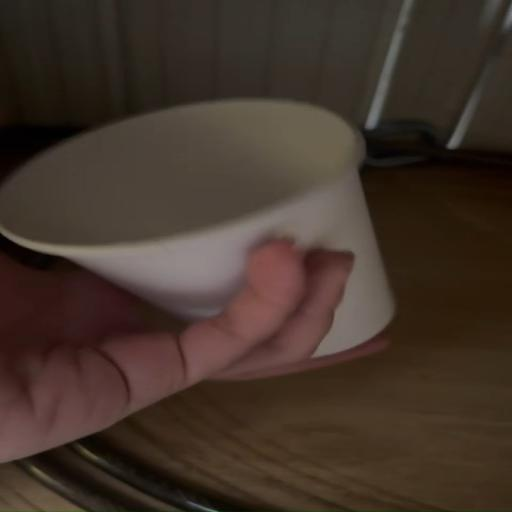Ly_giay: (0, 99, 393, 356)
